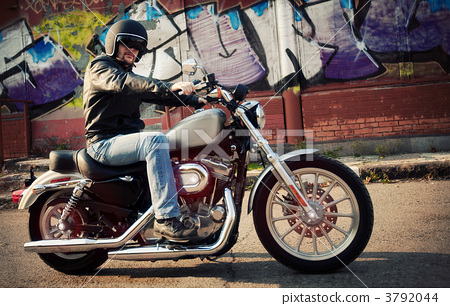helmet: (102, 17, 151, 66)
